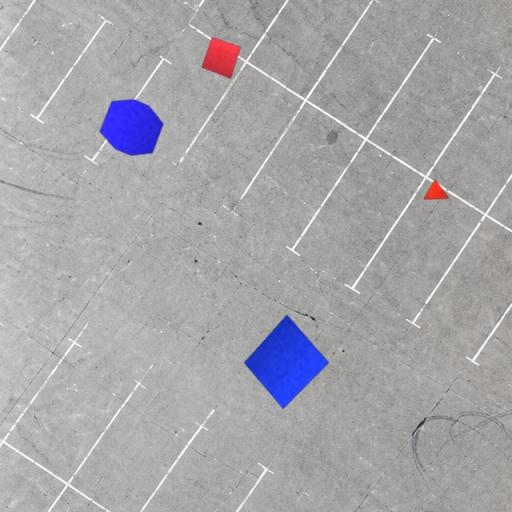BLUE_SQUARE: (243, 314, 330, 409)
RED_SQUARE: (200, 37, 242, 79)
